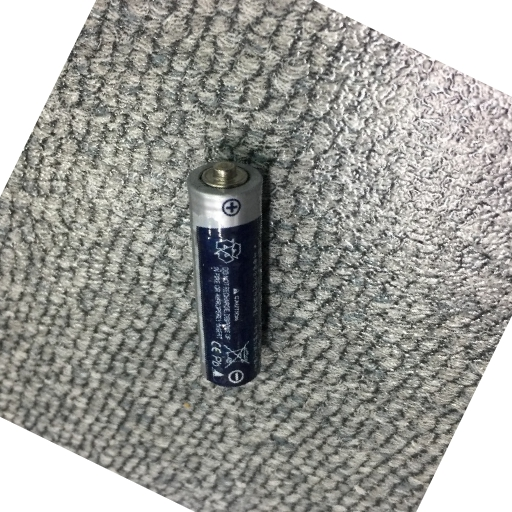Battery_0: (184, 151, 287, 400)
